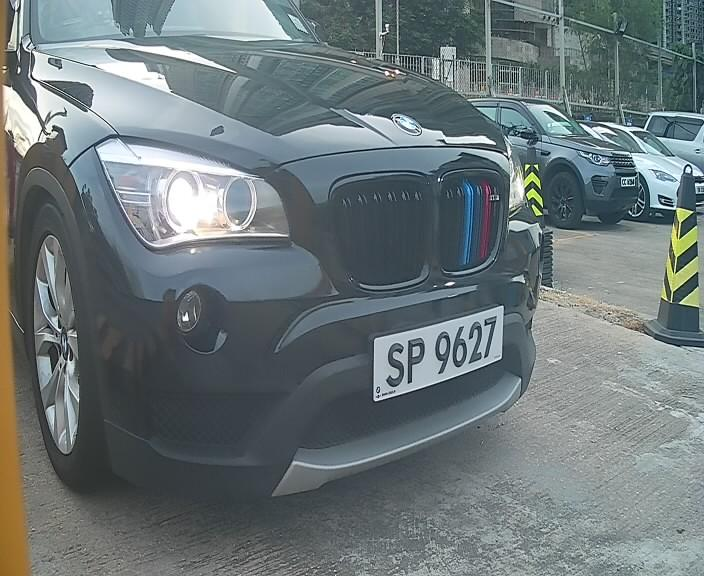License Plate: (362, 304, 510, 402)
